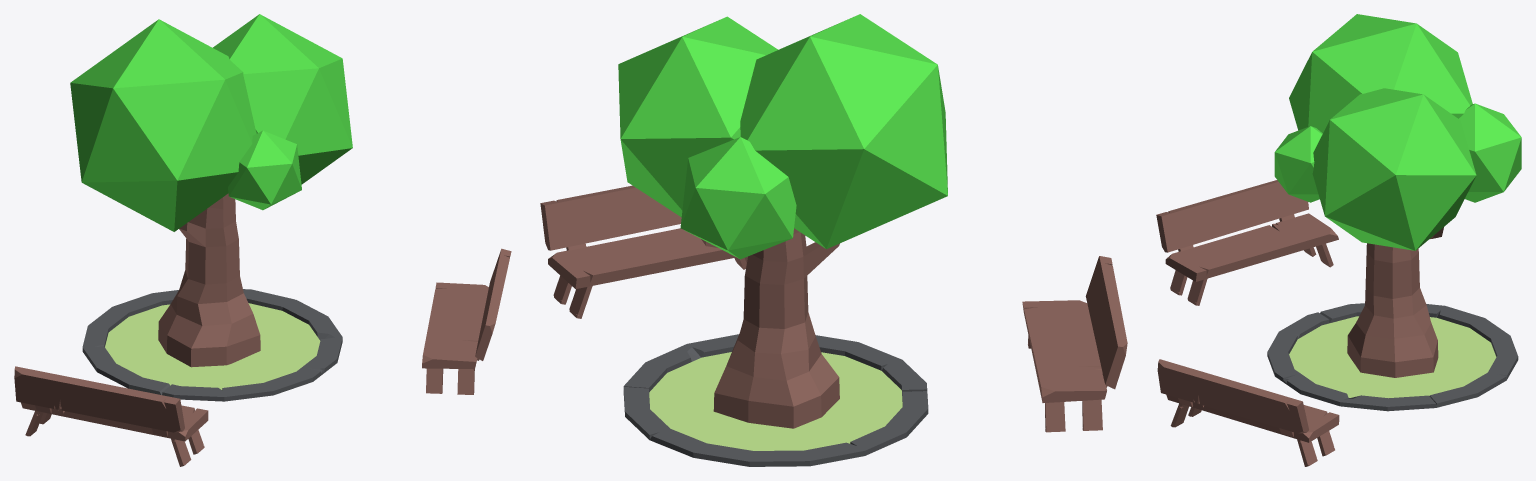
Rendered from Usine_01.fbx.
The picture shows the model from 3 angles, left to right: view 1: azimuth 30°, elevation 25°; view 2: azimuth 150°, elevation 25°; view 3: azimuth 270°, elevation 25°; orthographic projection. The views are drawn at different scales.
Parts seen in each view (by area): view 1: Arbre, Ground Circle, Banc_O2, Banc_O1; view 2: Arbre, Ground Circle, Banc_O1, Banc_O2; view 3: Arbre, Ground Circle, Banc_O2, Banc_O1.
Part boxes in pixels (left/top/right/bottom): Arbre: left=70, top=14, right=352, bottom=367; Ground Circle: left=82, top=289, right=342, bottom=401; Banc_O2: left=14, top=366, right=208, bottom=466; Banc_O1: left=422, top=248, right=511, bottom=394; Arbre: left=618, top=14, right=947, bottom=428; Ground Circle: left=623, top=334, right=928, bottom=466; Banc_O1: left=540, top=185, right=747, bottom=318; Banc_O2: left=1022, top=256, right=1127, bottom=432; Arbre: left=1274, top=14, right=1521, bottom=377; Ground Circle: left=1267, top=303, right=1518, bottom=411; Banc_O2: left=1156, top=180, right=1338, bottom=305; Banc_O1: left=1157, top=359, right=1339, bottom=466.
Size of the model in its own units: 1880 by 1198 by 1249.
